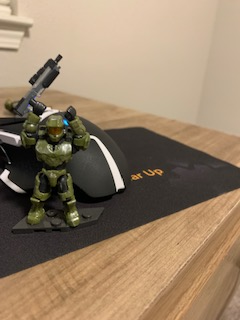chief: (18, 101, 86, 225)
rifle: (15, 53, 64, 117)
spartan: (16, 99, 84, 223)
up: (18, 99, 90, 170)
